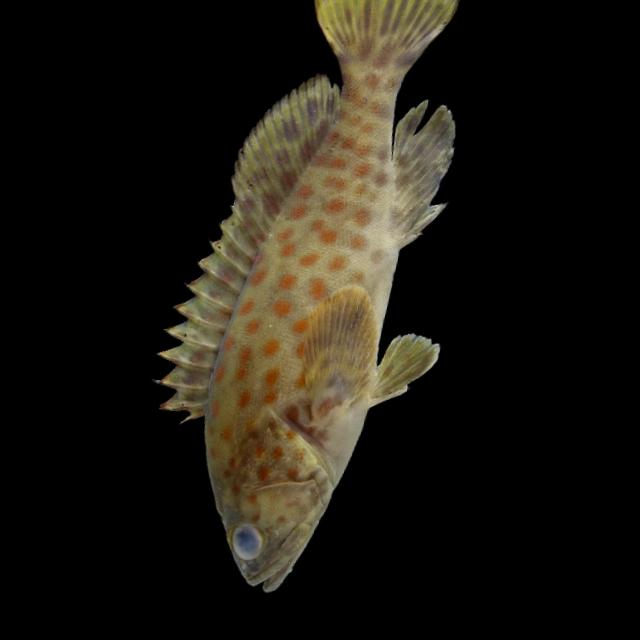Groupers: (96, 0, 526, 620)
